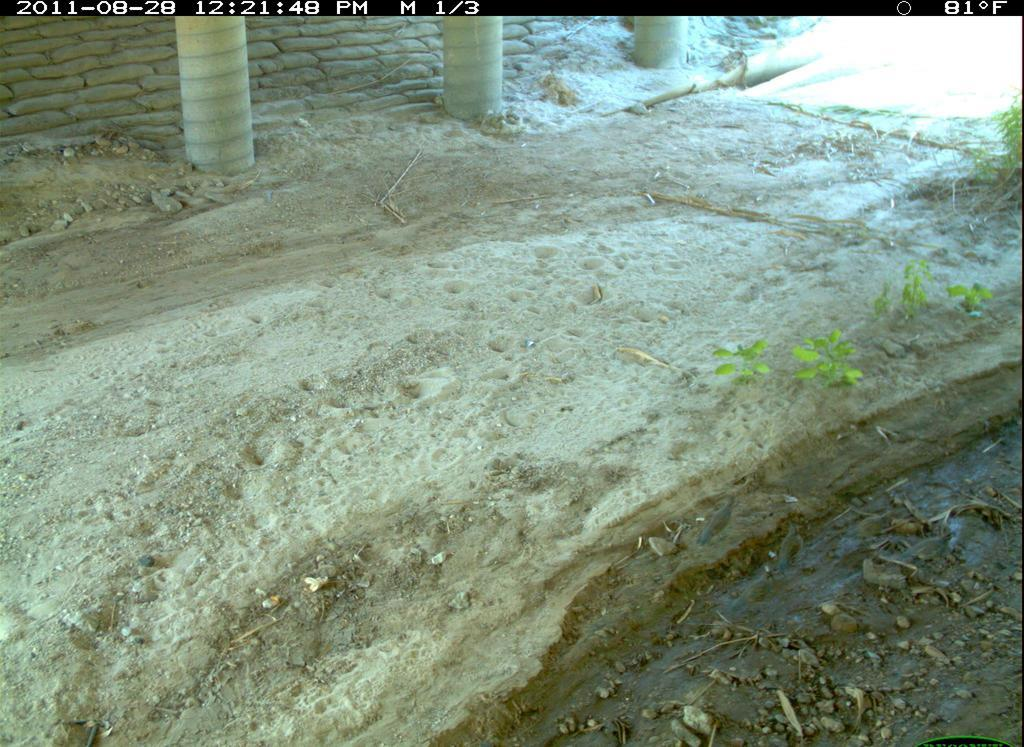bird: (688, 491, 741, 545), (776, 520, 816, 571)
